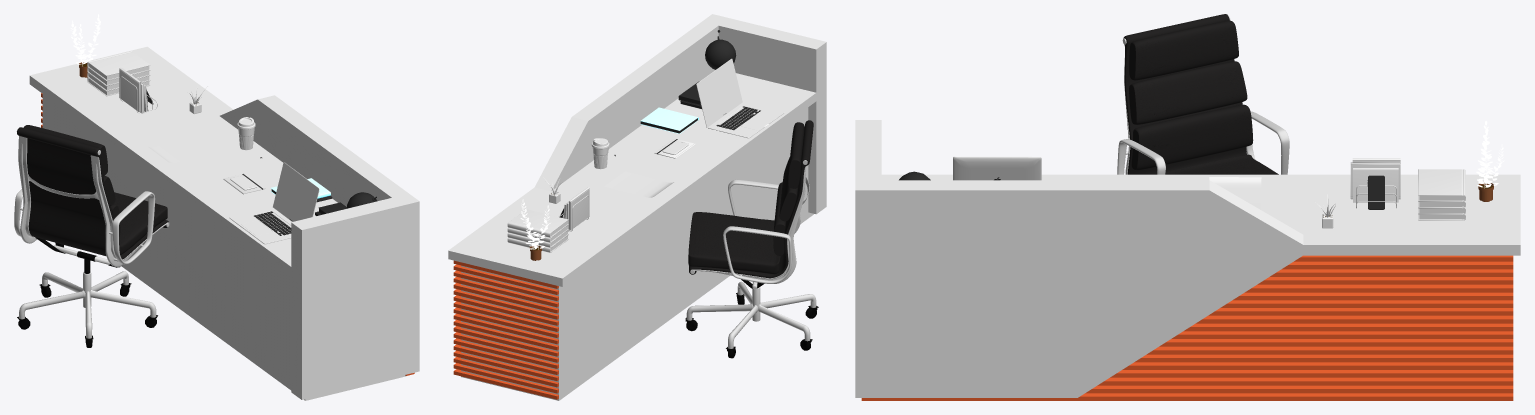
Rendered from Recep_1.glb.
3 views of the same model, side by side, from view 1: azimuth 30°, elevation 25°; view 2: azimuth 150°, elevation 25°; view 3: azimuth 270°, elevation 25° (orthographic). The views are drawn at different scales.
Visible parts, largest first — view 1: Cube.001_134, Cube.004_133, leather_130, metal frame_128, leggy_129, office_workplace_74_obj.374_19, office_workplace_74_obj.297_96, office_workplace_74_obj.296_97, office_workplace_74_obj.027_122, office_workplace_74_obj.685_12, Plant_1, bottom frame_136; view 2: Cube.001_134, Cube.004_133, Cube.005_132, leather_130, leggy_129, metal frame_128, office_workplace_74_obj.374_19, office_workplace_74_obj.297_96, office_workplace_74_obj.296_97, office_workplace_74_obj.027_122, office_workplace_74_obj.284_104, office_workplace_74_obj.264_120 (+3 smaller); view 3: Cube.001_134, Cube.005_132, leather_130, office_workplace_74_obj.374_19, metal frame_128, office_workplace_74_obj.027_122, office_workplace_74_obj.682_15, office_workplace_74_obj.296_97, Plant_1, office_workplace_74_obj.690_7.
Boxes of the visible parts, x1,y1,x2,y2 form: Cube.001_134: [29, 46, 419, 399]; Cube.004_133: [42, 94, 406, 400]; leather_130: [17, 125, 168, 259]; metal frame_128: [14, 129, 169, 267]; leggy_129: [17, 271, 157, 347]; office_workplace_74_obj.374_19: [273, 162, 319, 221]; office_workplace_74_obj.297_96: [229, 207, 291, 244]; office_workplace_74_obj.296_97: [148, 136, 219, 163]; office_workplace_74_obj.027_122: [87, 51, 150, 80]; office_workplace_74_obj.685_12: [119, 67, 141, 111]; Plant_1: [70, 14, 100, 77]; bottom frame_136: [35, 237, 120, 273]; Cube.001_134: [448, 14, 826, 286]; Cube.004_133: [461, 107, 813, 400]; Cube.005_132: [453, 260, 558, 399]; leather_130: [688, 120, 813, 278]; leggy_129: [685, 281, 818, 358]; metal frame_128: [690, 160, 809, 283]; office_workplace_74_obj.374_19: [696, 58, 742, 127]; office_workplace_74_obj.297_96: [708, 102, 784, 138]; office_workplace_74_obj.296_97: [604, 171, 673, 197]; office_workplace_74_obj.027_122: [507, 209, 568, 237]; office_workplace_74_obj.284_104: [641, 107, 698, 133]; office_workplace_74_obj.264_120: [705, 39, 736, 69]; Cube.001_134: [855, 120, 1520, 397]; Cube.005_132: [861, 255, 1513, 400]; leather_130: [1123, 14, 1278, 174]; office_workplace_74_obj.374_19: [953, 156, 1041, 180]; metal frame_128: [1117, 16, 1289, 174]; office_workplace_74_obj.027_122: [1418, 169, 1465, 201]; office_workplace_74_obj.682_15: [1353, 168, 1398, 202]; office_workplace_74_obj.296_97: [1209, 177, 1261, 209]; Plant_1: [1476, 121, 1504, 201]; office_workplace_74_obj.690_7: [1368, 175, 1384, 209].
Bounding box in the file's own units: 42 × 31.95 × 78.67.
28 materials, 1 textured.
